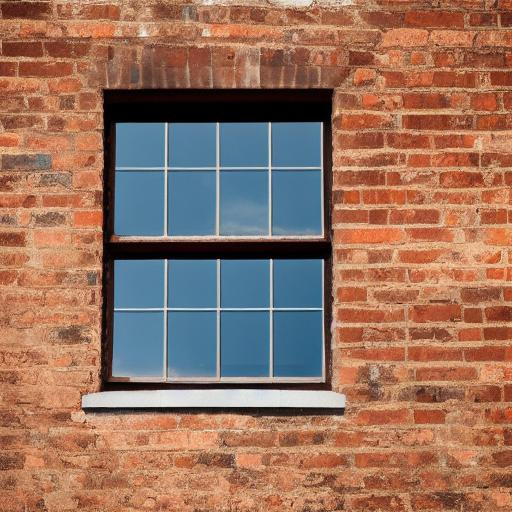Window: (79, 81, 351, 415)
